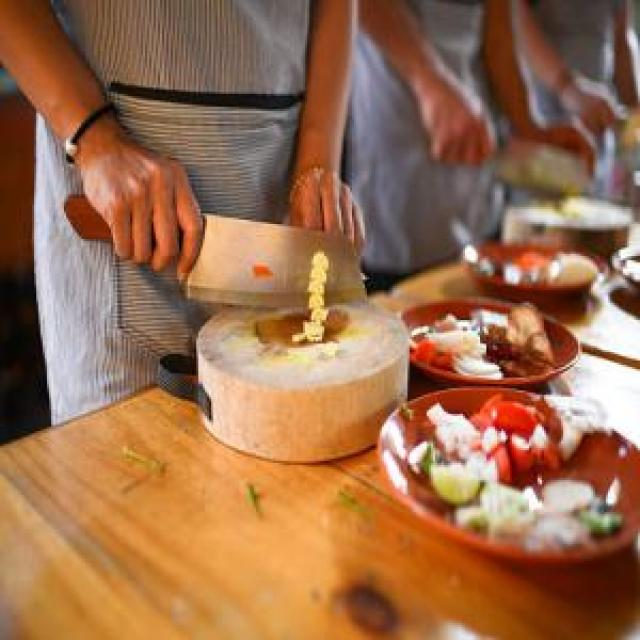knife: (62, 190, 390, 309)
